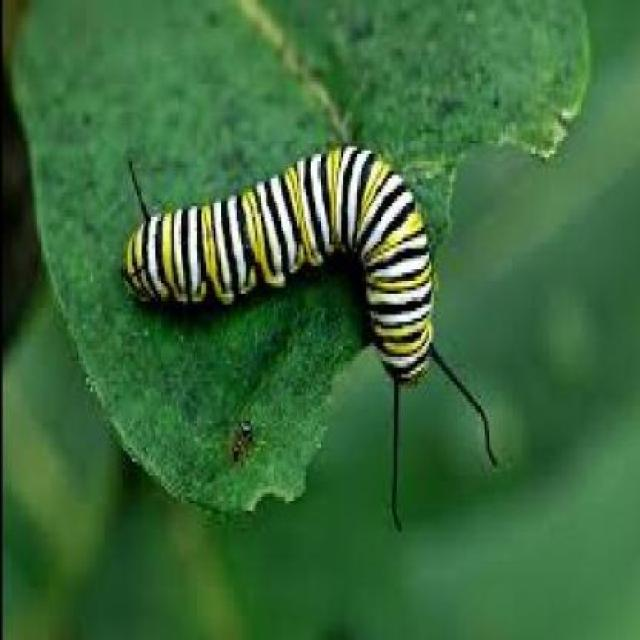Plaga: (103, 119, 472, 421)
